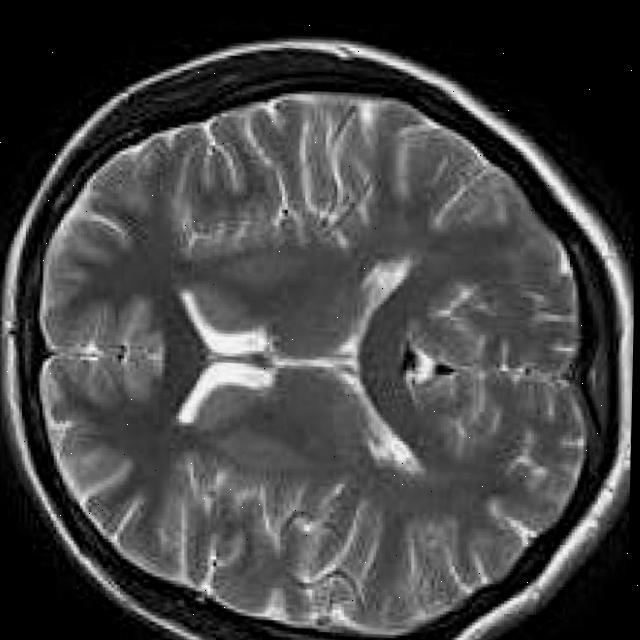NoTumor: (23, 62, 603, 640)
